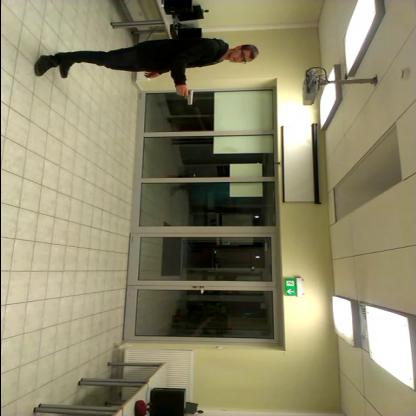Pistol: (176, 88, 197, 106)
